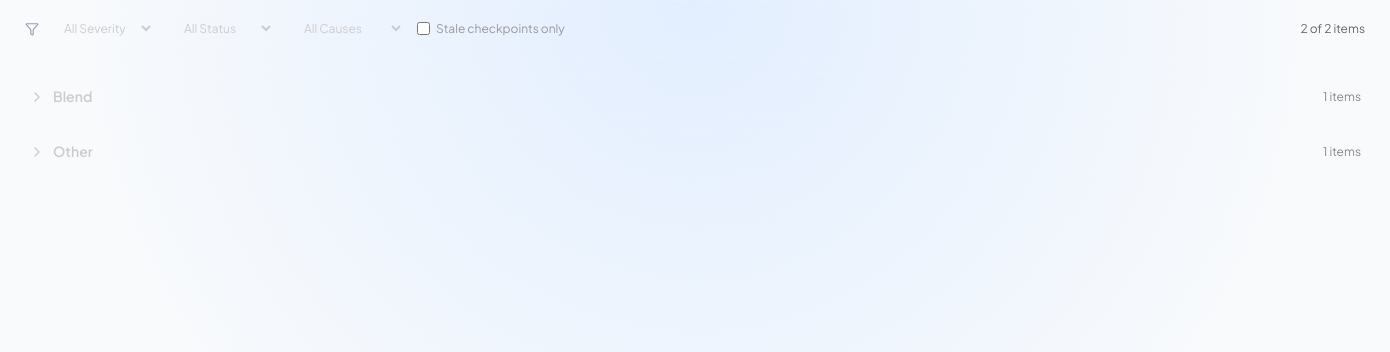
Test: PortfolioReconcile › filters › filters stale checkpoints only
Click the checkbox labelled "Stale checkpoints only" at (424, 28), box [417,22,430,35]
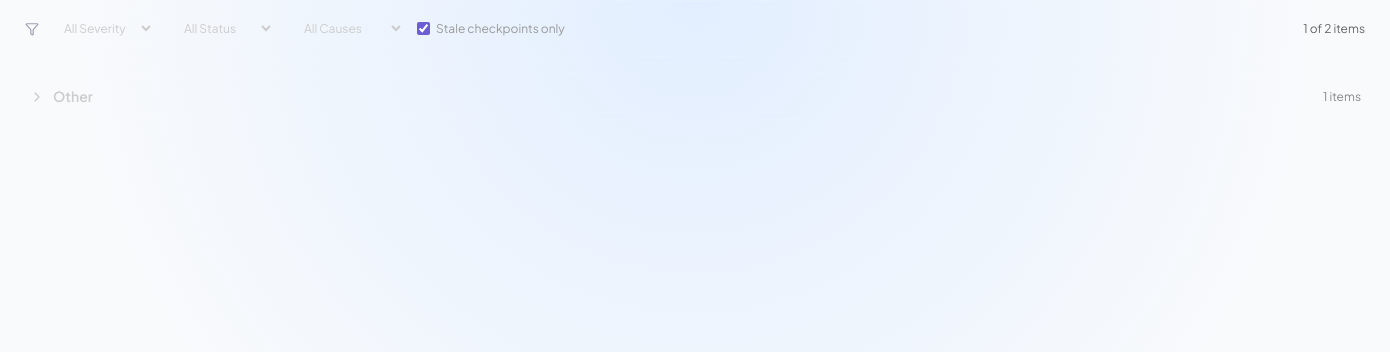
Click the button "Other 1 items" at (73, 96), box [12,73,1378,120]
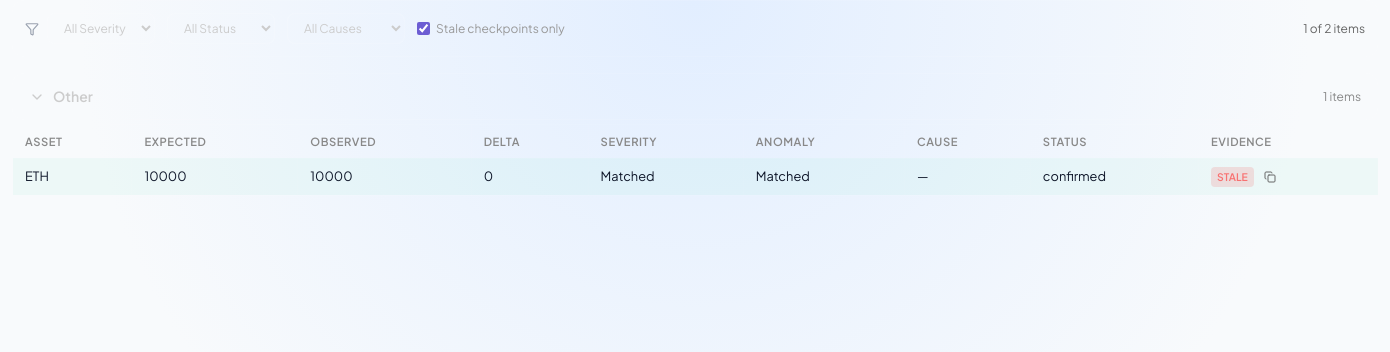
Expected: the text "ETH" is shown, [12,158,132,195]
